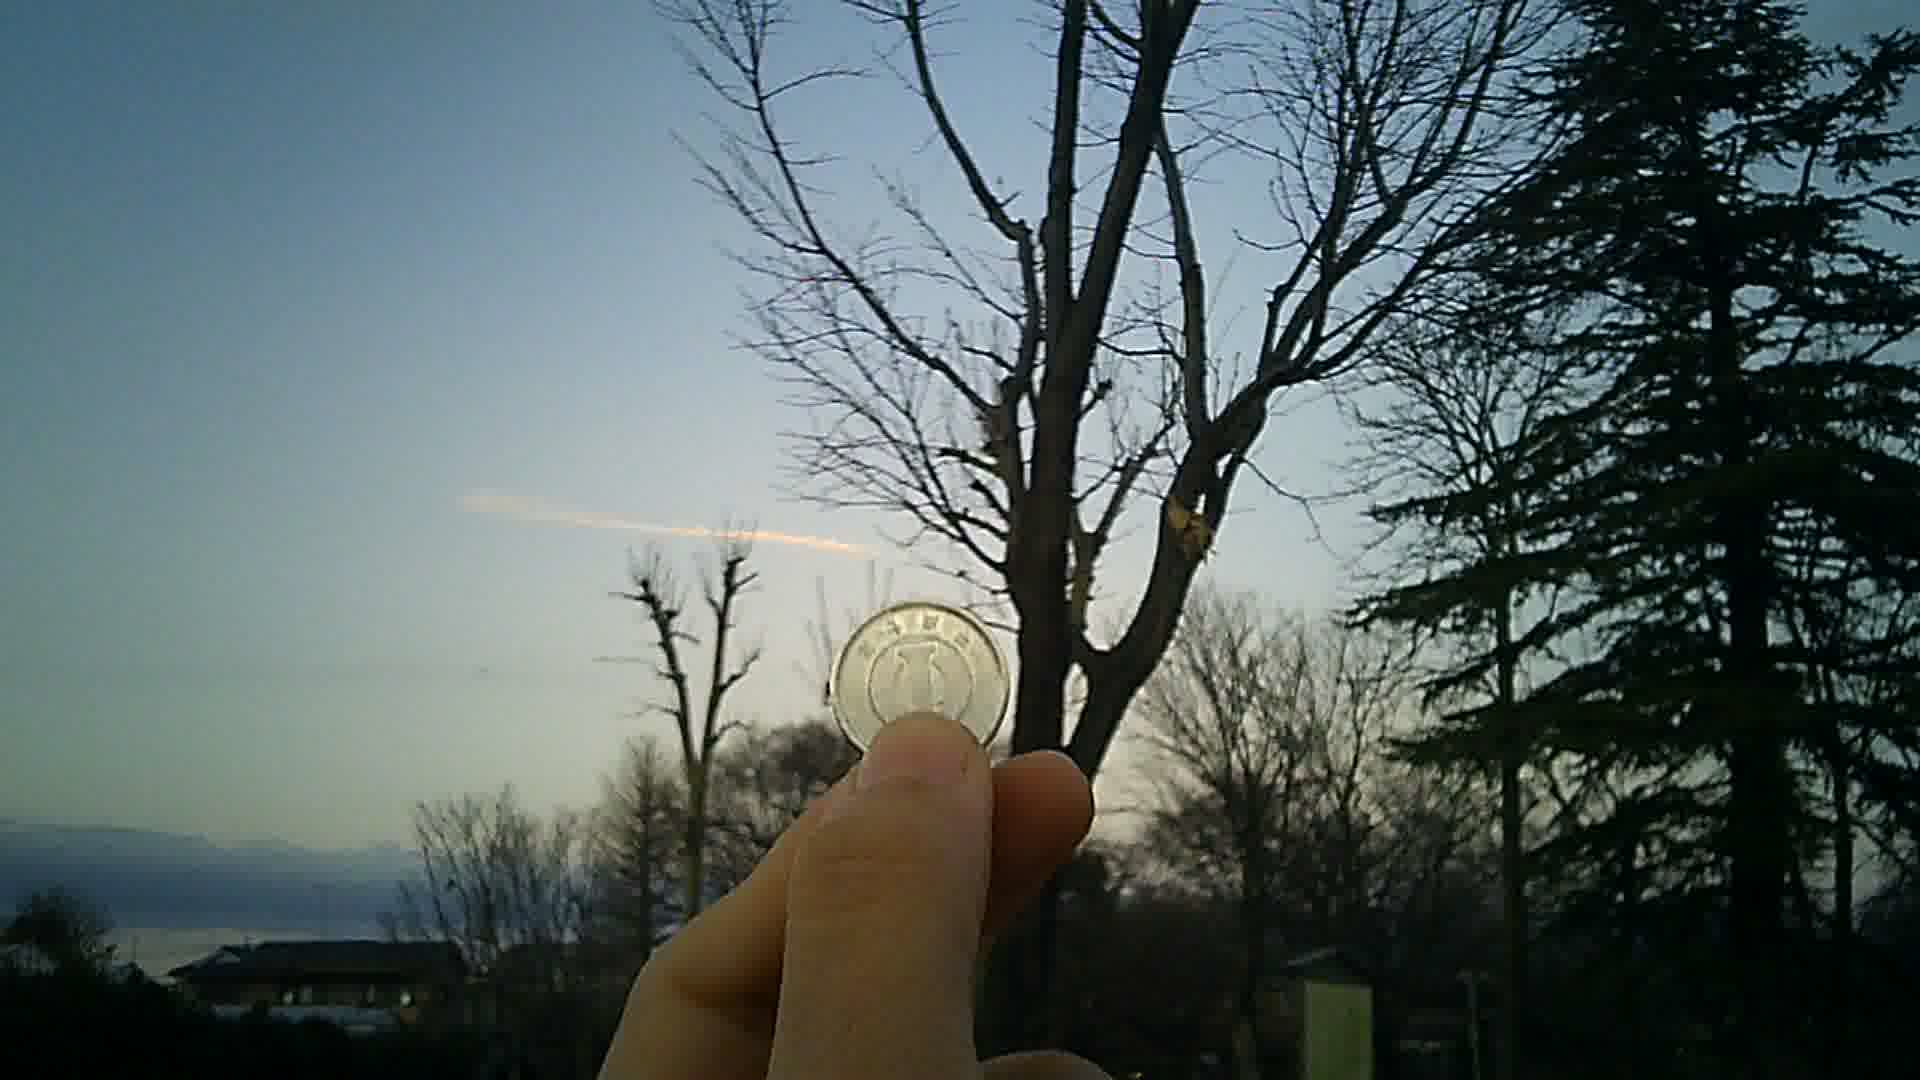1 Yen: (823, 593, 1021, 766)
